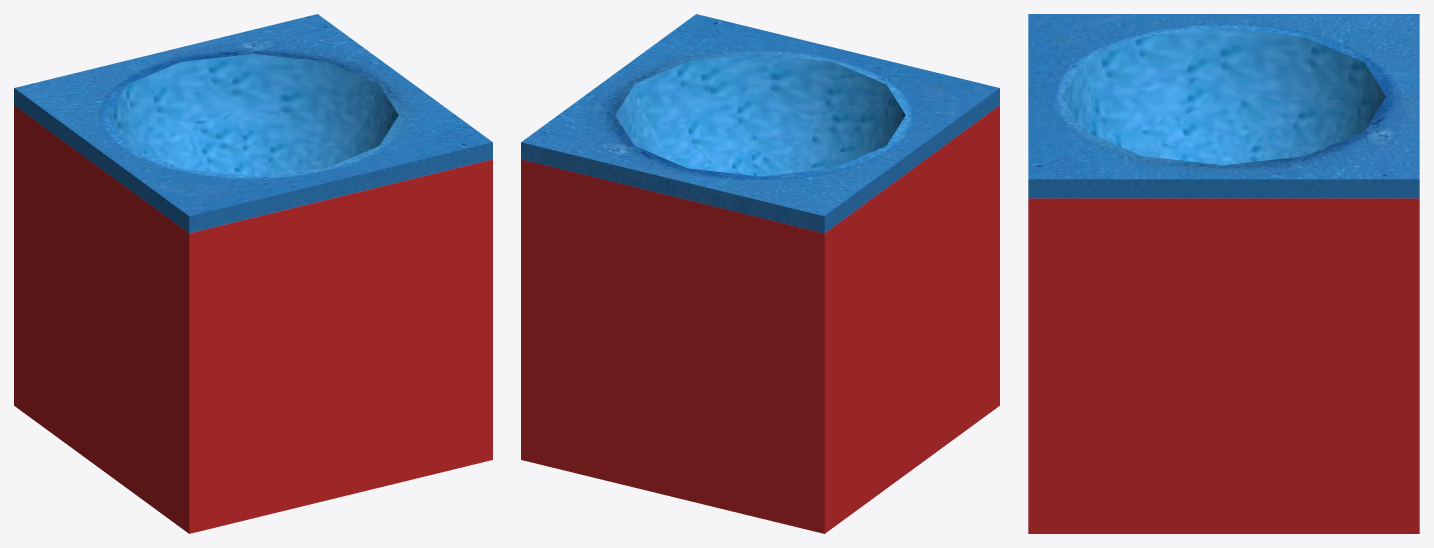
Rendered from ChalkCube.fbx.
3 renders of one model, left to right at view 1: azimuth 30°, elevation 25°; view 2: azimuth 150°, elevation 25°; view 3: azimuth 270°, elevation 25°, orthographic. The views are drawn at different scales.
Parts seen in each view (by area): view 1: ChalkCube; view 2: ChalkCube; view 3: ChalkCube.
Part boxes in pixels (<box>): ChalkCube: <box>14,14,492,533</box>; ChalkCube: <box>521,14,999,533</box>; ChalkCube: <box>1028,14,1419,533</box>.
Size of the model in its own units: 215 by 215 by 215.
